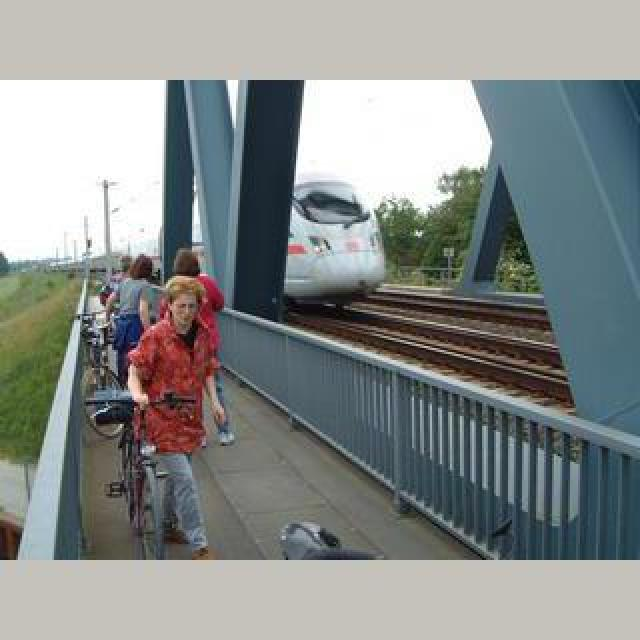MC-Bike: (126, 278, 234, 548), (104, 254, 164, 390)
Person: (92, 394, 174, 560), (85, 358, 127, 438)
